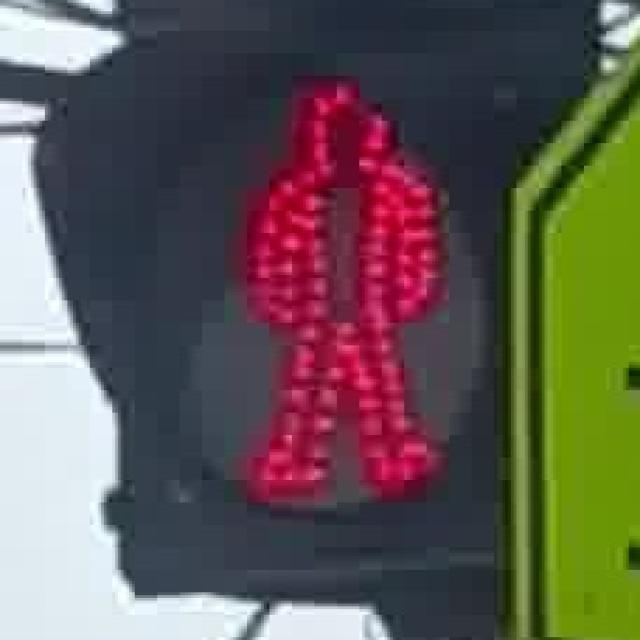red_light: (213, 53, 454, 508)
